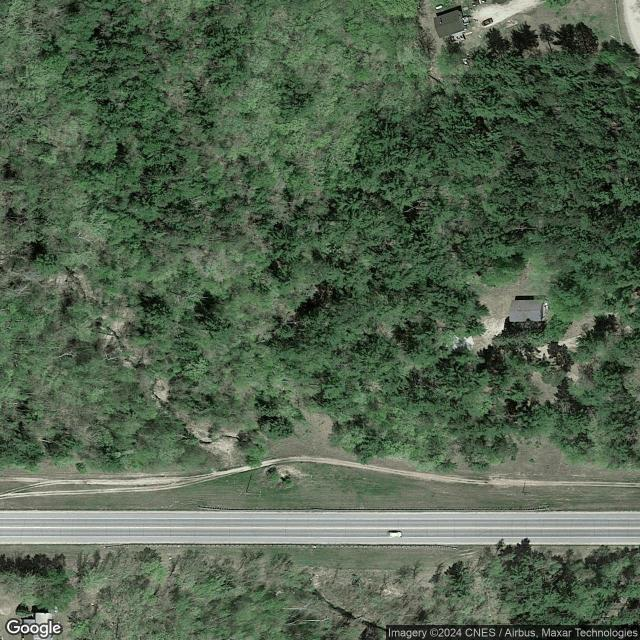Propane: (434, 3, 443, 11)
